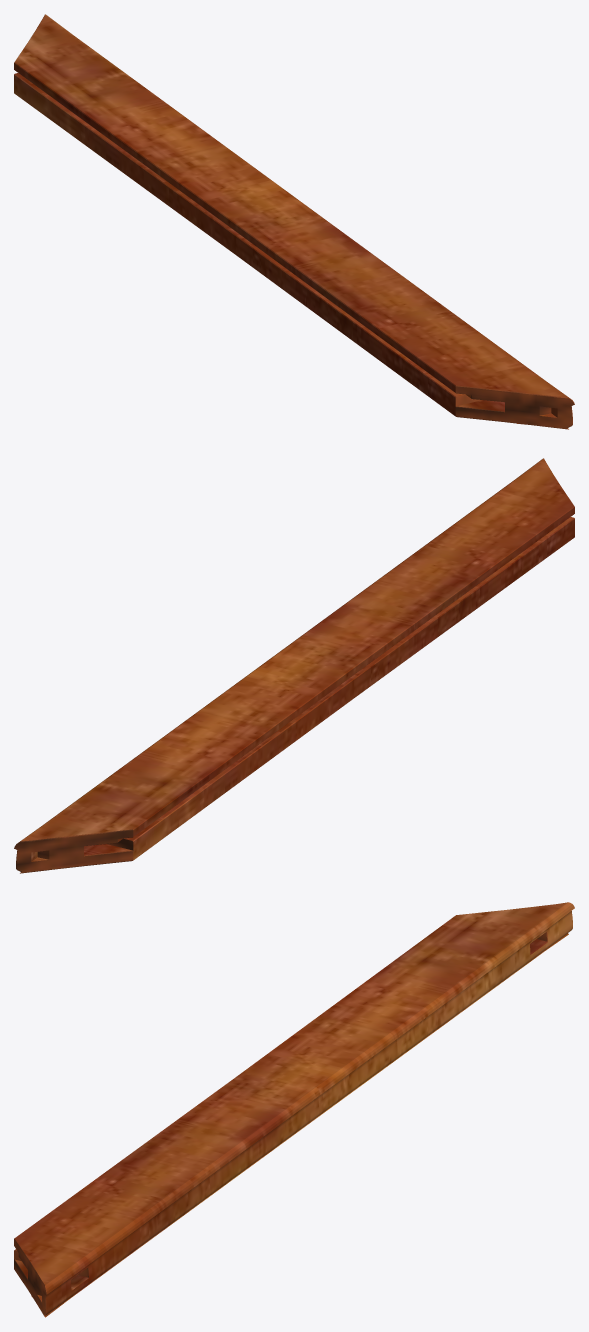
The model's file is baxianzhuo_J_motou_02.FBX.
The picture shows the model from 3 angles, top to bottom: view 1: azimuth 30°, elevation 25°; view 2: azimuth 150°, elevation 25°; view 3: azimuth 330°, elevation 25°; orthographic projection.
Parts seen in each view (by area): view 1: baxianzhuo_J_motou_02; view 2: baxianzhuo_J_motou_02; view 3: baxianzhuo_J_motou_02.
Boxes of the visible parts, x1,y1,x2,y2 form: baxianzhuo_J_motou_02: [14, 14, 574, 429]; baxianzhuo_J_motou_02: [14, 458, 574, 873]; baxianzhuo_J_motou_02: [14, 902, 574, 1317].
Size of the model in its own units: 8.07 by 3.25 by 96.87.
